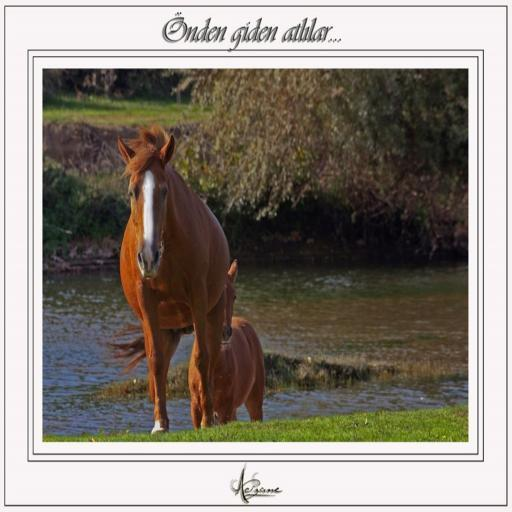Horse: (103, 119, 230, 435), (186, 257, 266, 432)
